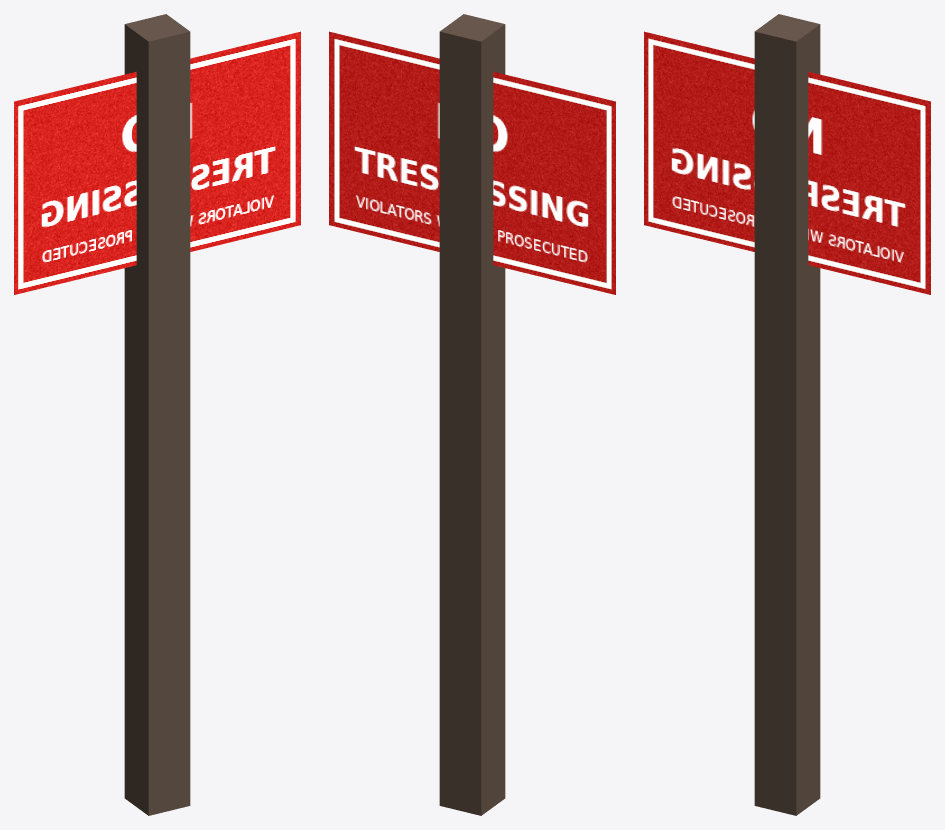
The model's file is WK_SGN_Trespass.glb.
The picture shows the model from 3 angles, left to right: view 1: azimuth 30°, elevation 25°; view 2: azimuth 150°, elevation 25°; view 3: azimuth 330°, elevation 25°; orthographic projection.
Visible parts, largest first — view 1: WK_SGN_Trespass_P01, WK_SGN_Trespass_P02; view 2: WK_SGN_Trespass_P01, WK_SGN_Trespass_P02; view 3: WK_SGN_Trespass_P01, WK_SGN_Trespass_P02.
Part boxes in pixels (bbox=[...]): WK_SGN_Trespass_P01: bbox=[124, 14, 190, 815]; WK_SGN_Trespass_P02: bbox=[14, 31, 300, 294]; WK_SGN_Trespass_P01: bbox=[439, 14, 505, 815]; WK_SGN_Trespass_P02: bbox=[329, 31, 615, 294]; WK_SGN_Trespass_P01: bbox=[754, 14, 820, 815]; WK_SGN_Trespass_P02: bbox=[644, 31, 930, 294].
Bounding box in the file's own units: 0.62 × 1.6 × 0.09.
Materials: 2 (1 with a texture image).
